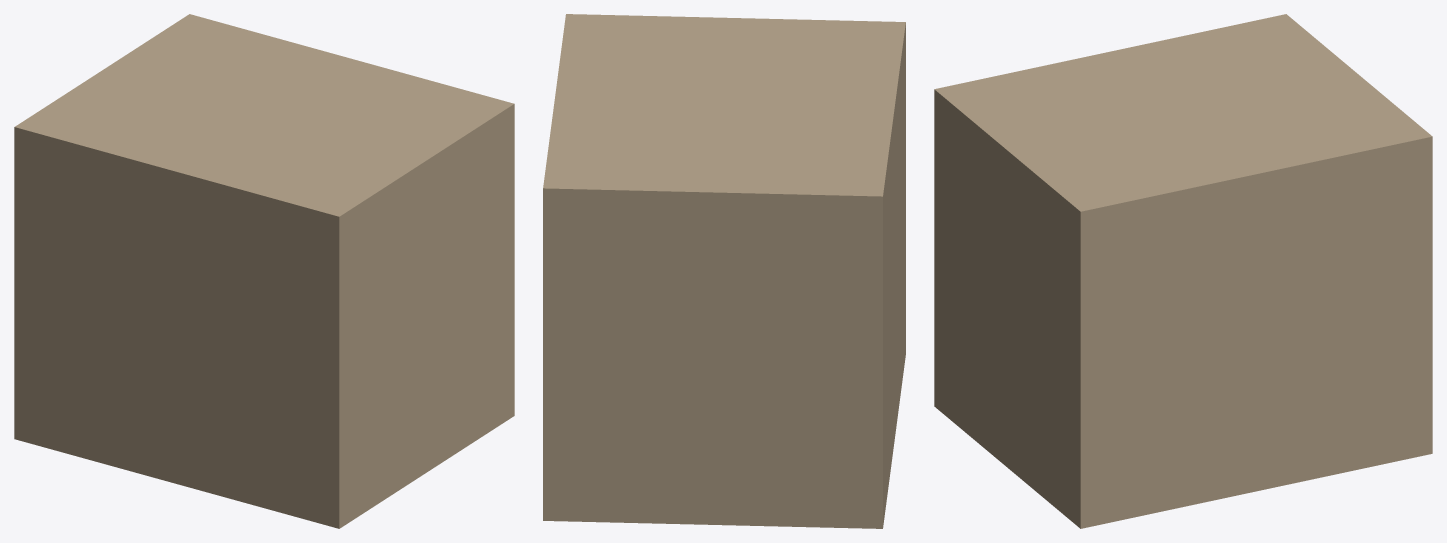
The model's file is bld_163484432.dae.
3 renders of one model, left to right at view 1: azimuth 30°, elevation 25°; view 2: azimuth 150°, elevation 25°; view 3: azimuth 270°, elevation 25°, orthographic. The views are drawn at different scales.
Visible parts, largest first — view 1: bld_163484432; view 2: bld_163484432; view 3: bld_163484432.
Boxes of the visible parts, left/top/right/bottom form: bld_163484432: left=14, top=14, right=514, bottom=528; bld_163484432: left=543, top=14, right=905, bottom=528; bld_163484432: left=934, top=14, right=1432, bottom=528.
Bounding box in the file's own units: 10.7 × 11.39 × 8.
